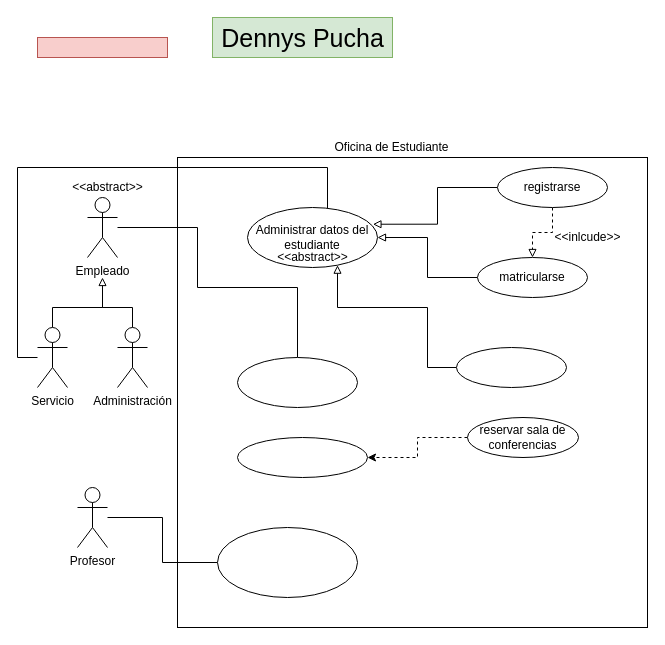
This 665x645 diagram has some shape labels left out. The shapes that lost their labels are listed below. From the top down, each one's centre as x and y in pixels, then its label:
point 102,47: TALLER 1
point 297,382: emitir información estudiante
point 511,367: retirarse
point 302,457: crear curso
point 287,562: enviar información de calificaciones
